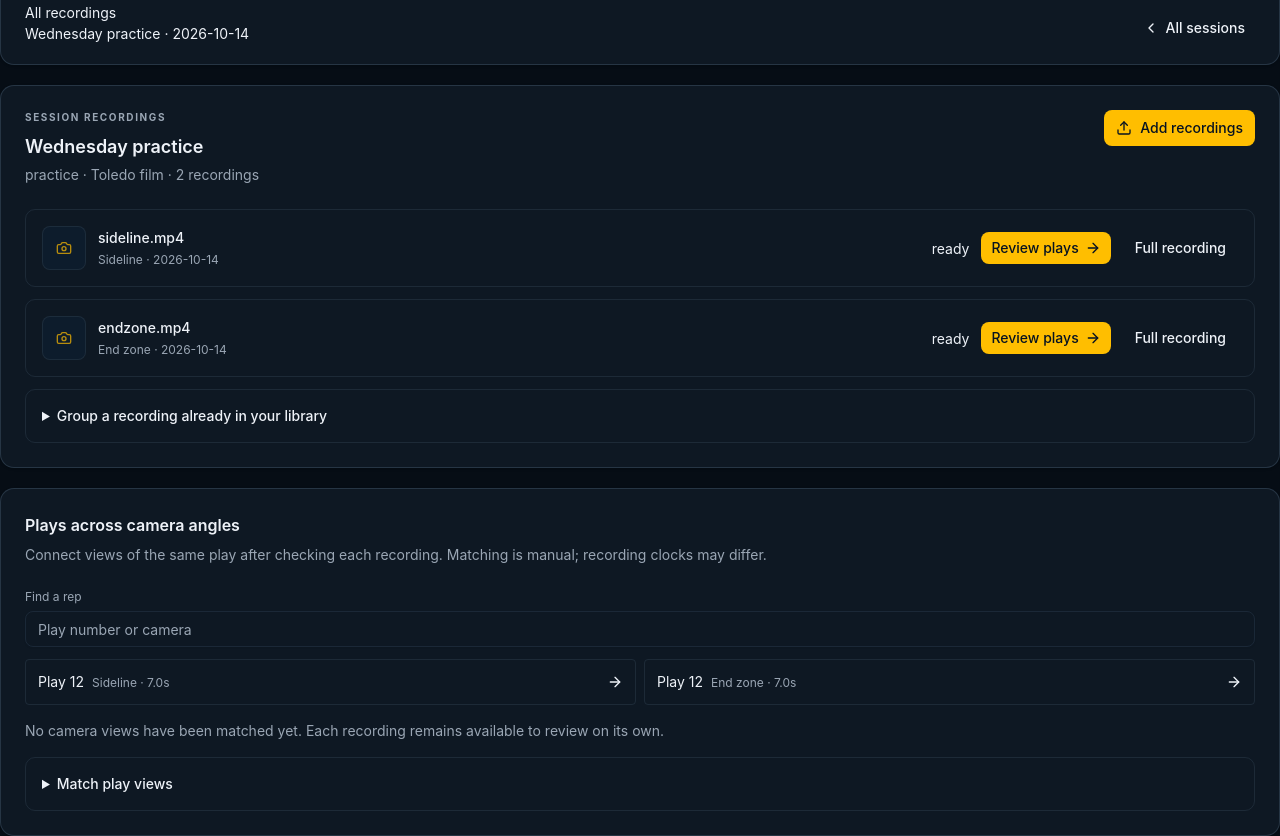
Test: session workspace › coach-verified views from two recordings are persisted as one play
This screenshot has width=1280, height=836.
(page scrolled)
Click the heading "Match play views" at (115, 784), box [57,775,173,792]
(page scrolled)
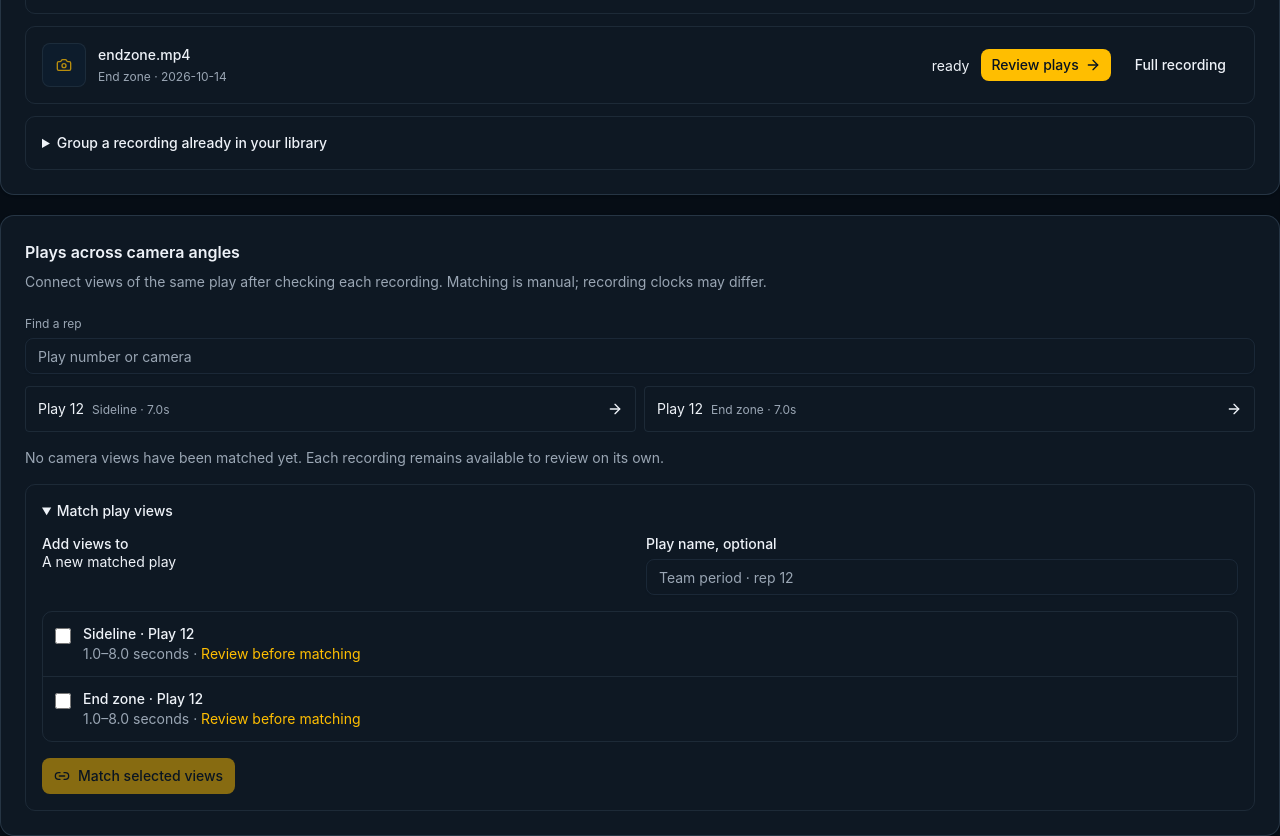
Type "Team rep 12" into the field labelled "Play name, optional" at (942, 577), box [646,559,1238,595]
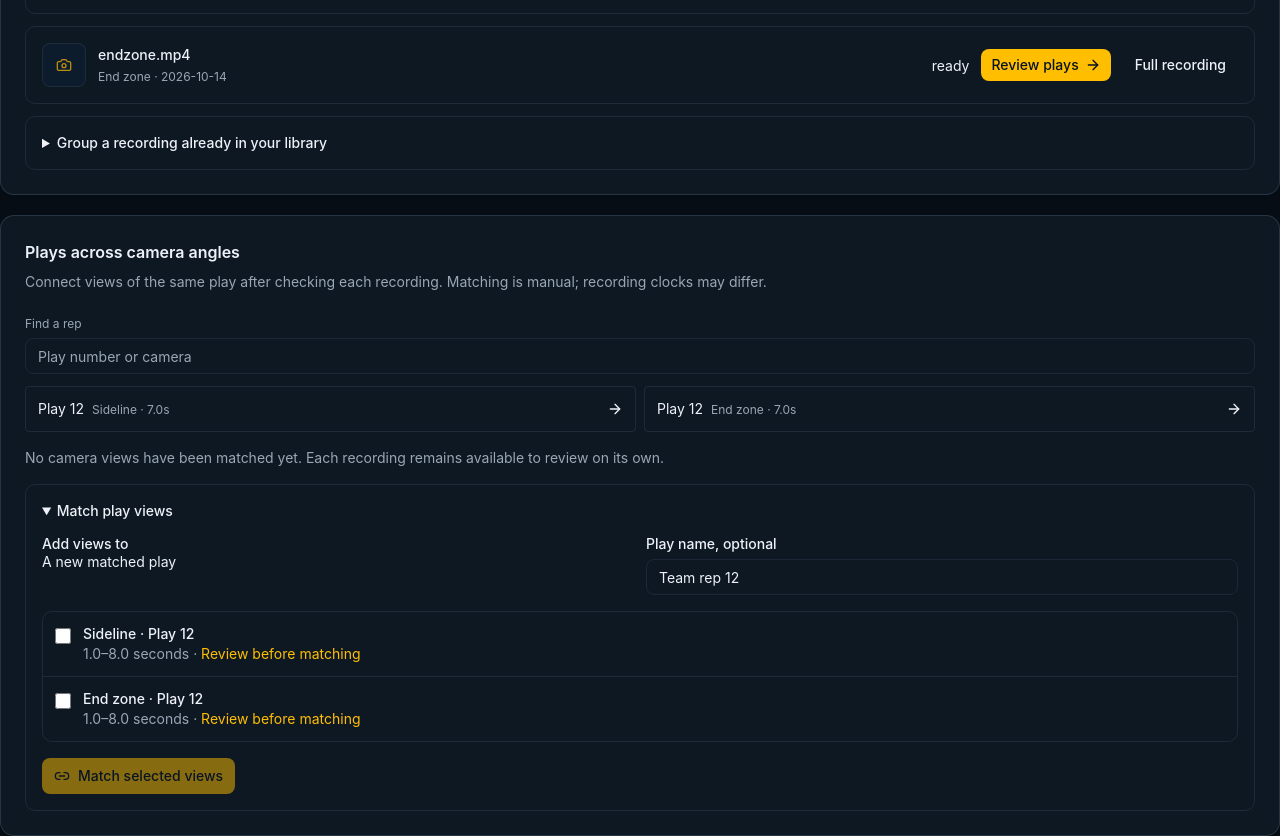
Click the checkbox labelled "Sideline · Play 12 1.0–8.0 seconds · Review before matching" at (63, 636), box [55,628,71,644]
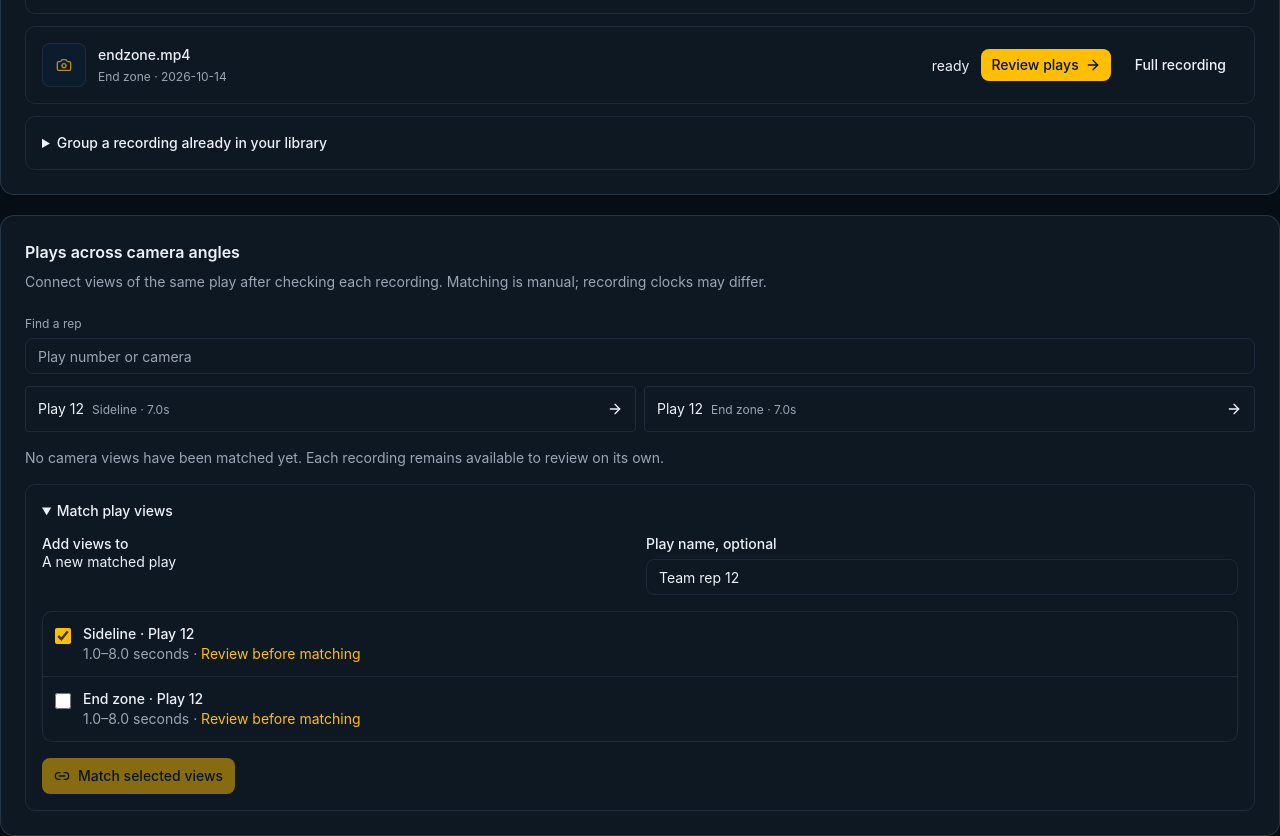
Expected: the button "Match selected views" is disabled, [42,758,235,794]
Click the checkbox labelled "End zone · Play 12 1.0–8.0 seconds · Review before matching" at (63, 701), box [55,693,71,709]
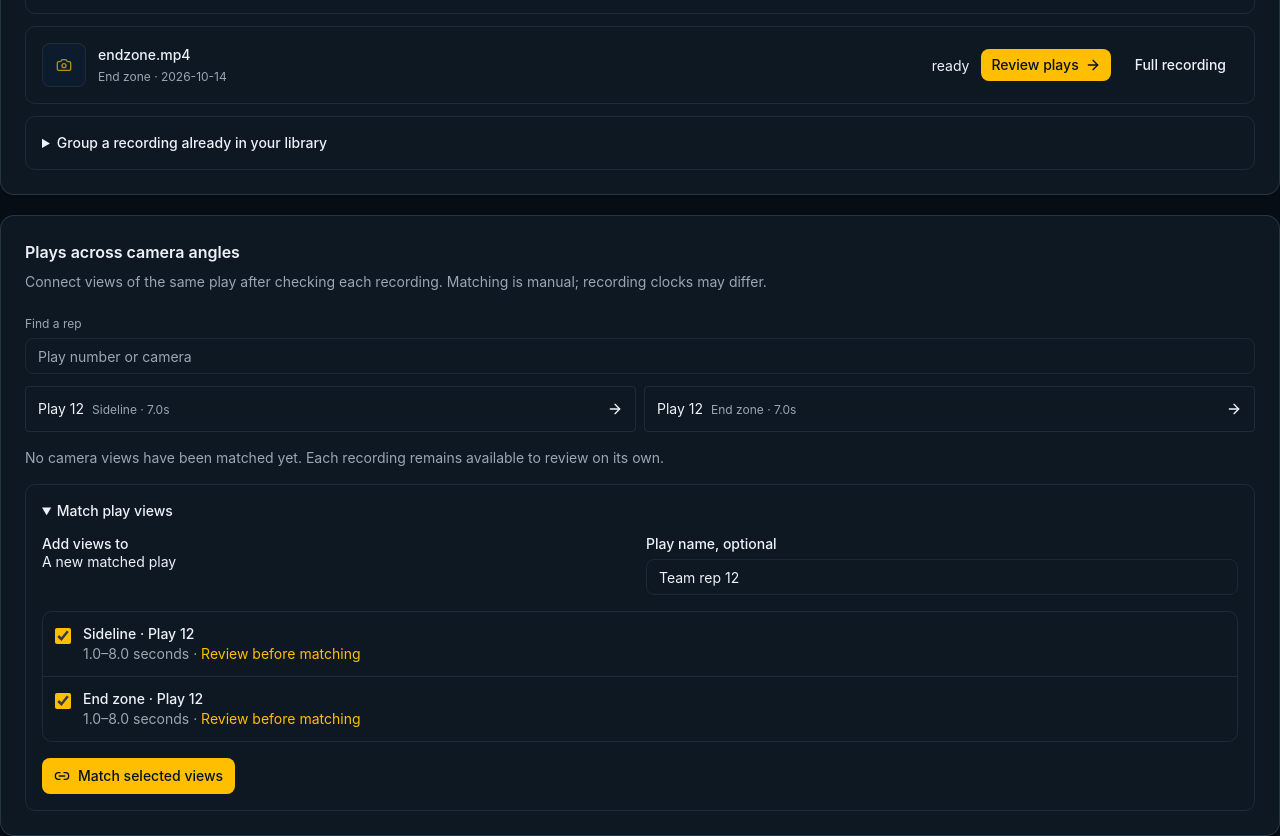
Click the button "Match selected views" at (139, 776), box [42,758,235,794]
(page scrolled)
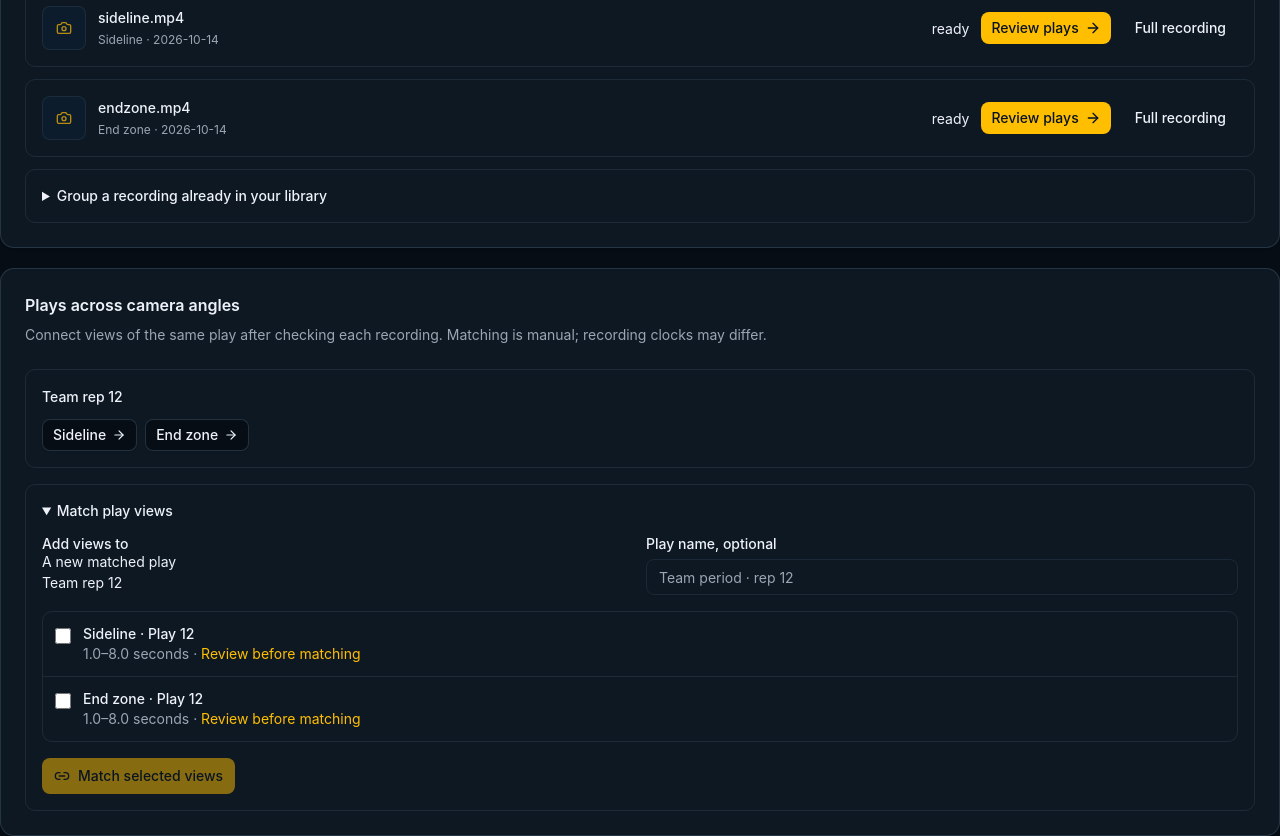
Expected: the heading "Team rep 12" is shown, [42,388,123,405]
